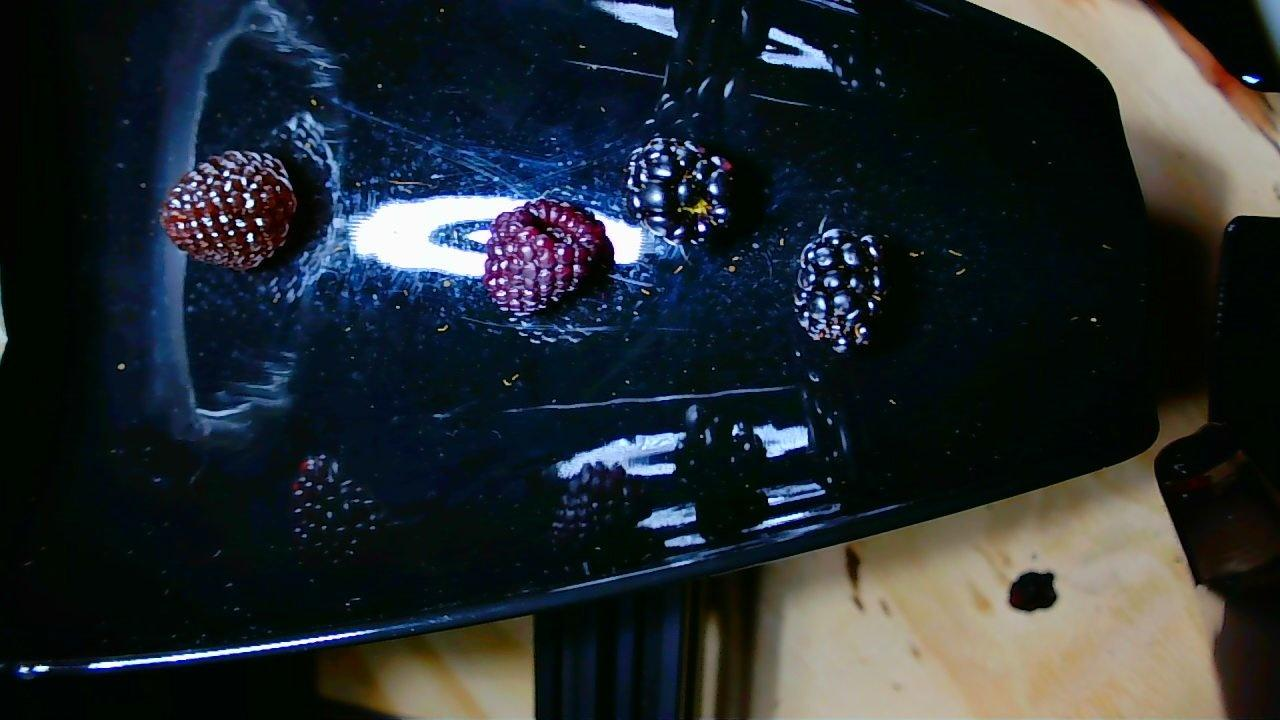berry: (162, 151, 296, 270), (483, 198, 612, 315), (625, 136, 735, 244), (793, 228, 884, 353)
